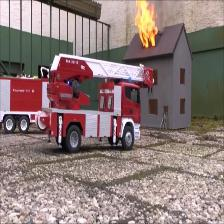fire: (134, 1, 160, 50)
